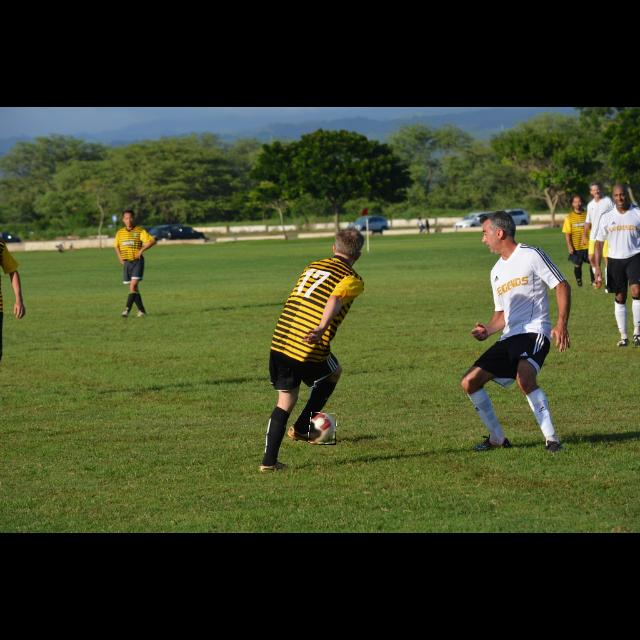Football: (310, 413, 336, 445)
